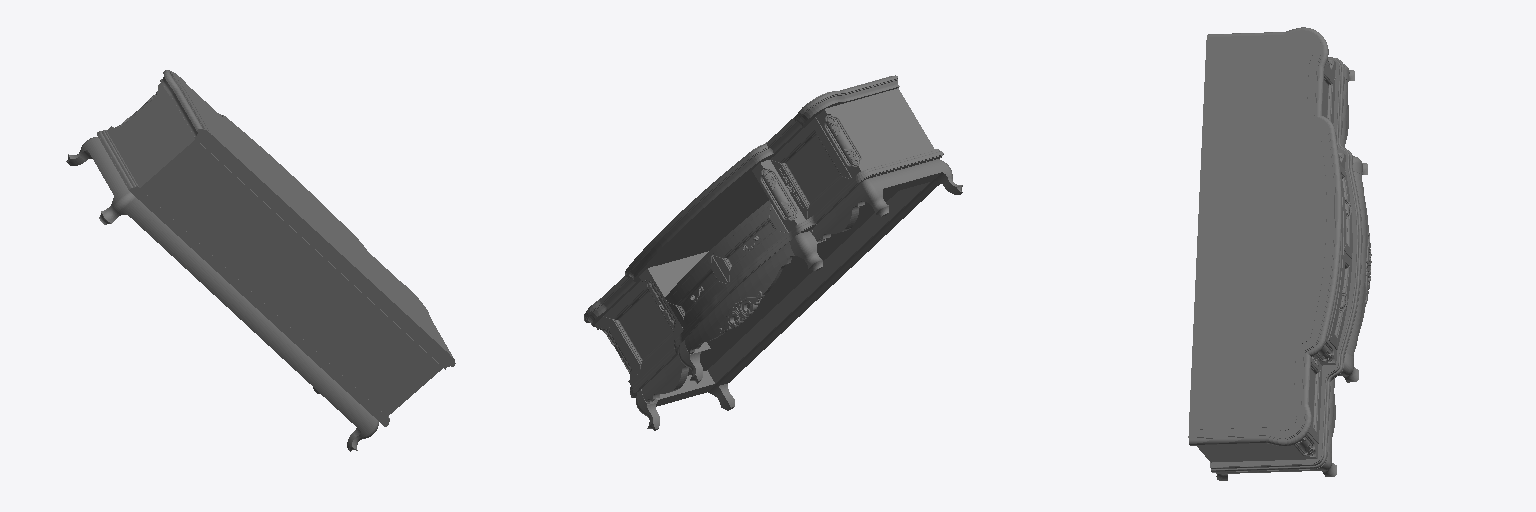
The model's file is desk.obj.
3 views of the same model, side by side, from view 1: azimuth 30°, elevation 25°; view 2: azimuth 150°, elevation 25°; view 3: azimuth 270°, elevation 25° (orthographic).
Visible parts, largest first — view 1: Object.1; view 2: Object.1; view 3: Object.1.
Boxes of the visible parts, x1,y1,x2,y2 form: Object.1: [66, 70, 455, 451]; Object.1: [584, 75, 962, 430]; Object.1: [1188, 27, 1371, 480].
Size of the model in its own units: 5576 by 5820 by 2525.